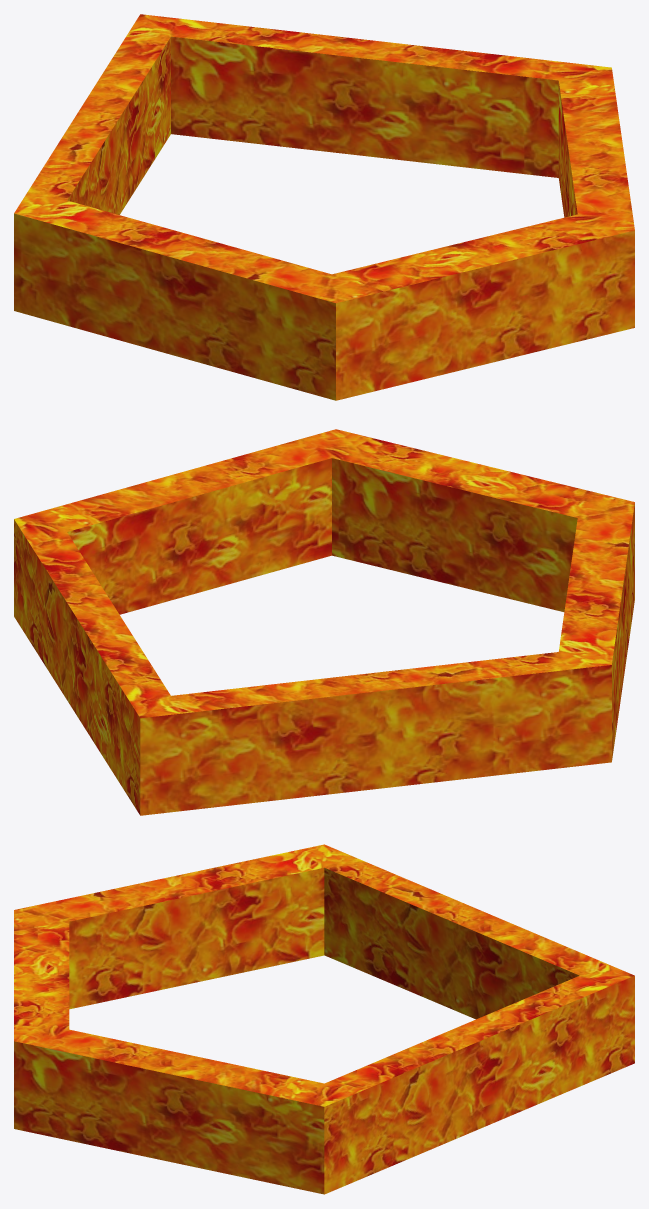
Rendered from PentagonObject.FBX.
The picture shows the model from 3 angles, top to bottom: view 1: azimuth 30°, elevation 25°; view 2: azimuth 150°, elevation 25°; view 3: azimuth 270°, elevation 25°; orthographic projection. The views are drawn at different scales.
Visible parts, largest first — view 1: Pentagon; view 2: Pentagon; view 3: Pentagon.
Part boxes in pixels (left/top/right/bottom): Pentagon: left=14, top=14, right=634, bottom=400; Pentagon: left=14, top=429, right=634, bottom=815; Pentagon: left=14, top=844, right=634, bottom=1194.
Bounding box in the file's own units: 64.17 × 10 × 64.17.
1 material, 1 textured.
